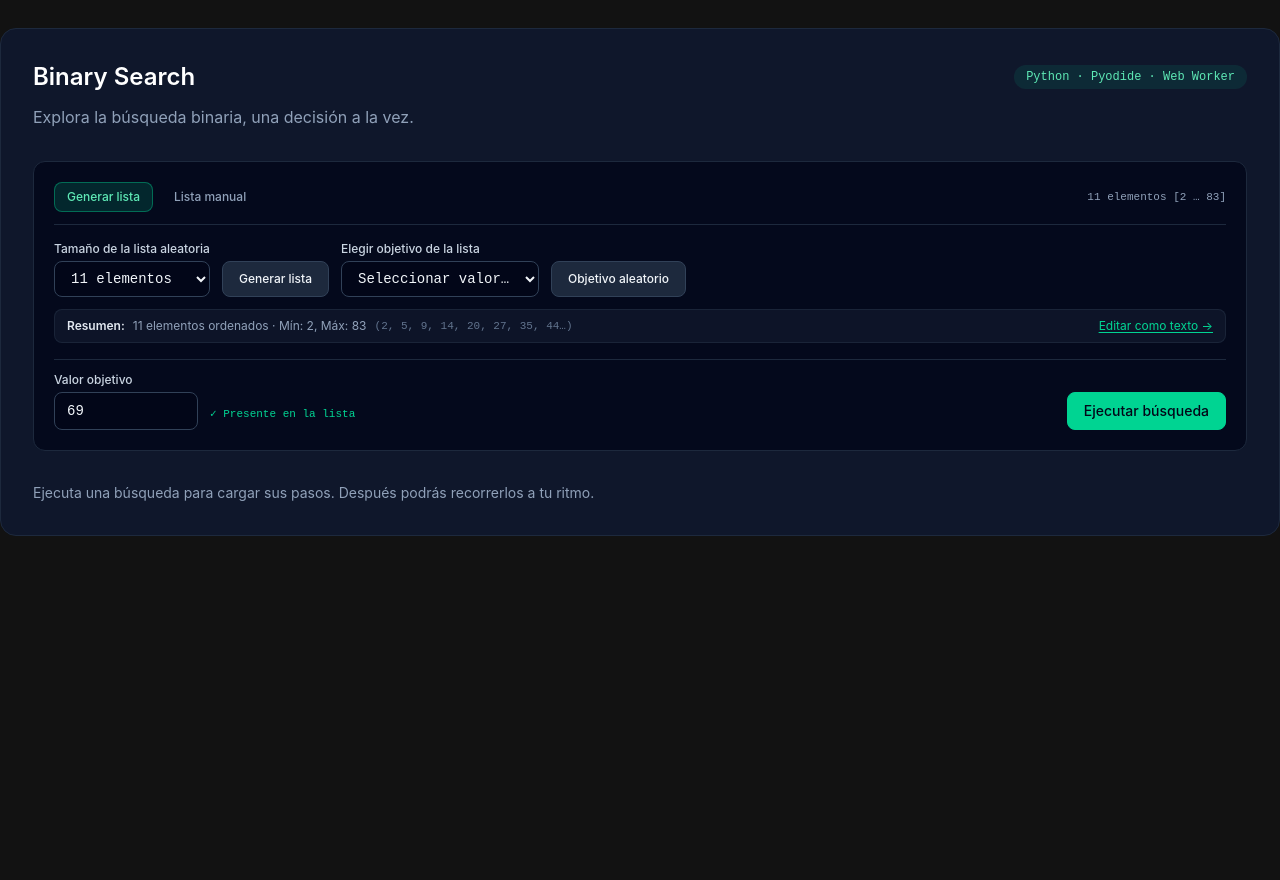
Test: Visualización por eventos › reproduce a la velocidad seleccionada, pausa y se detiene al finalizar
Click the button "Ejecutar búsqueda" at (1146, 411), box [1067, 392, 1226, 430]
(page scrolled)
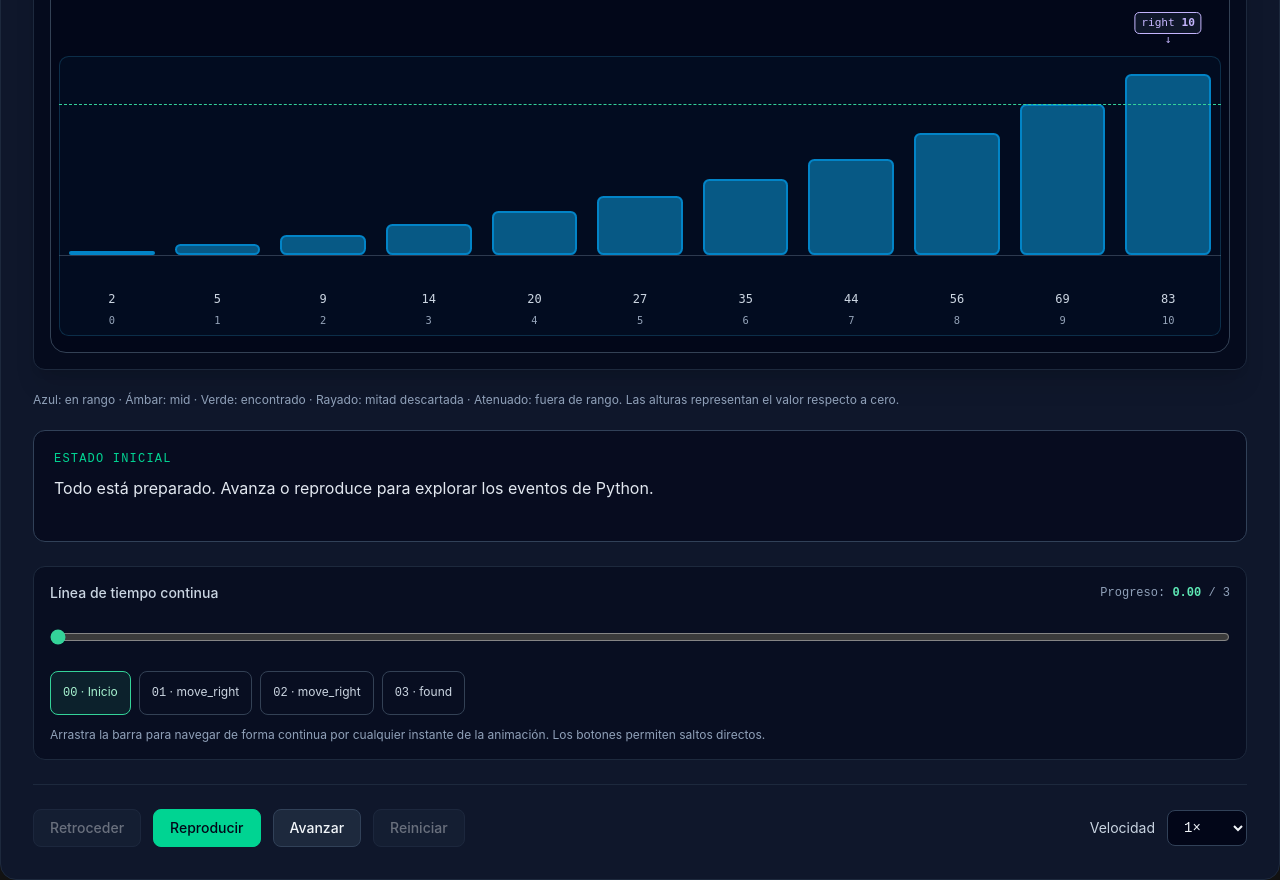
Select "2×" in the dropdown labelled "Velocidad" at (1207, 828), box [1167, 810, 1247, 846]
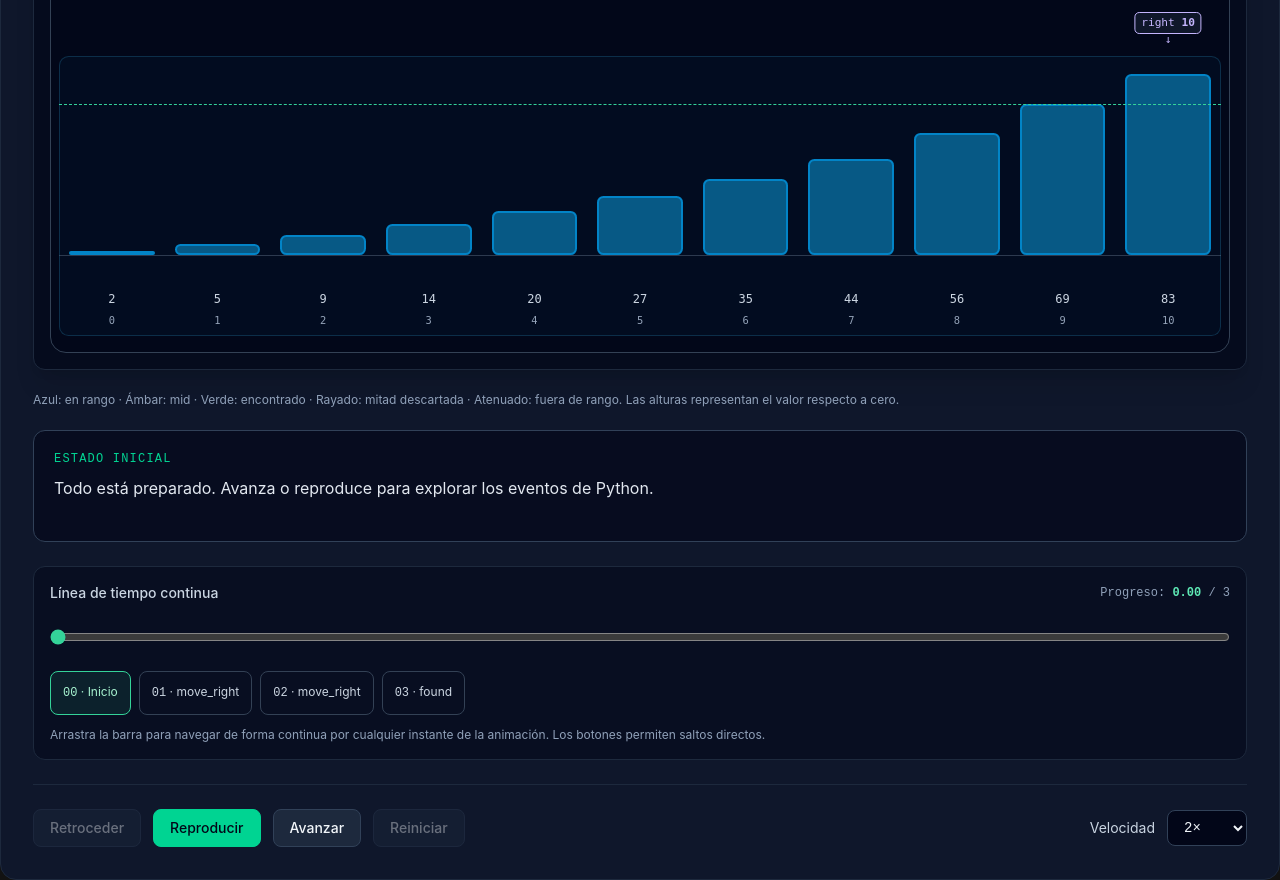
Click the button "Reproducir" at (207, 828), box [153, 809, 261, 847]
Wait 500 ms
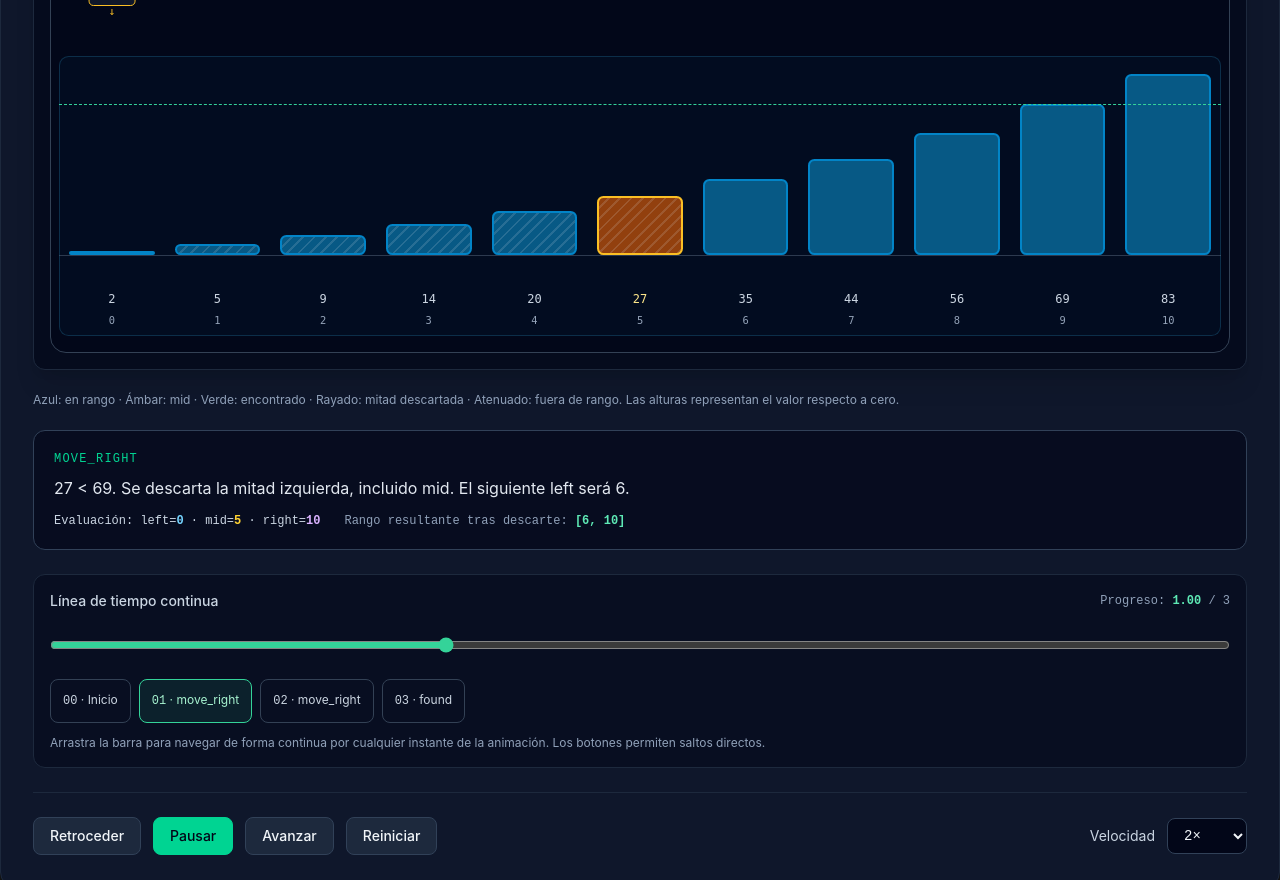
Click the button "Pausar" at (193, 836), box [153, 817, 233, 855]
Wait 2000 ms
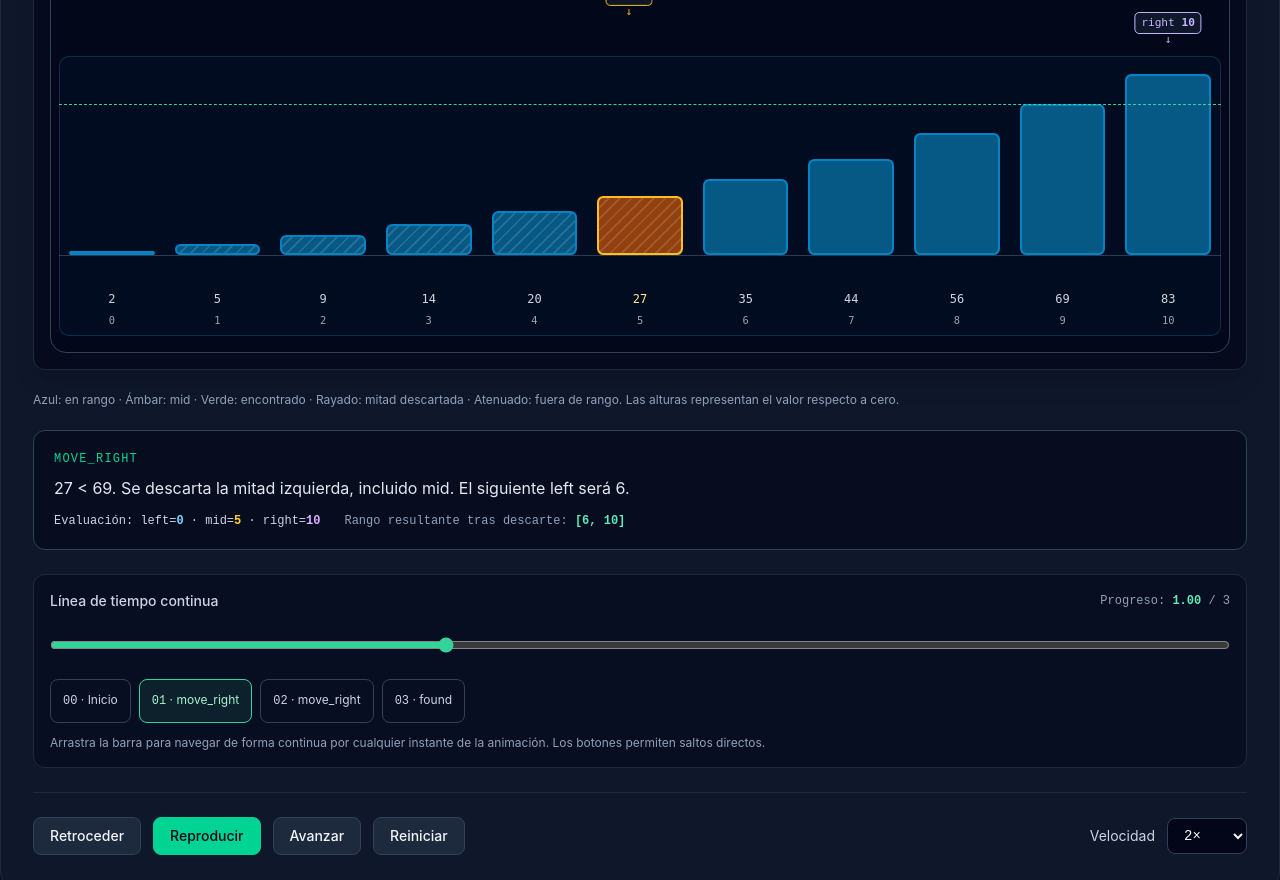
Click the button "Reproducir" at (207, 836), box [153, 817, 261, 855]
Wait 1500 ms
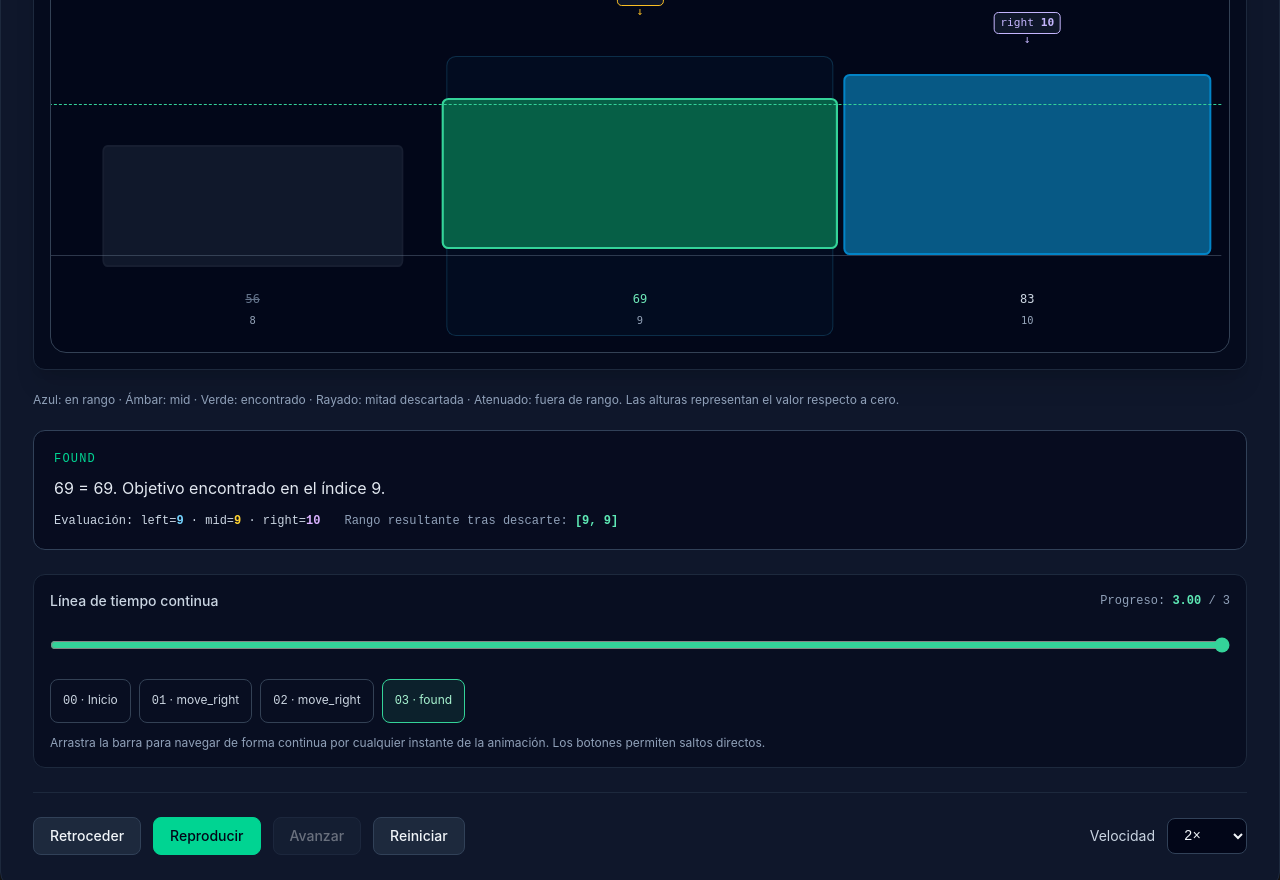
Check: the button "Reproducir" is shown
Click the button "Reproducir" at (207, 836), box [153, 817, 261, 855]
(page scrolled)
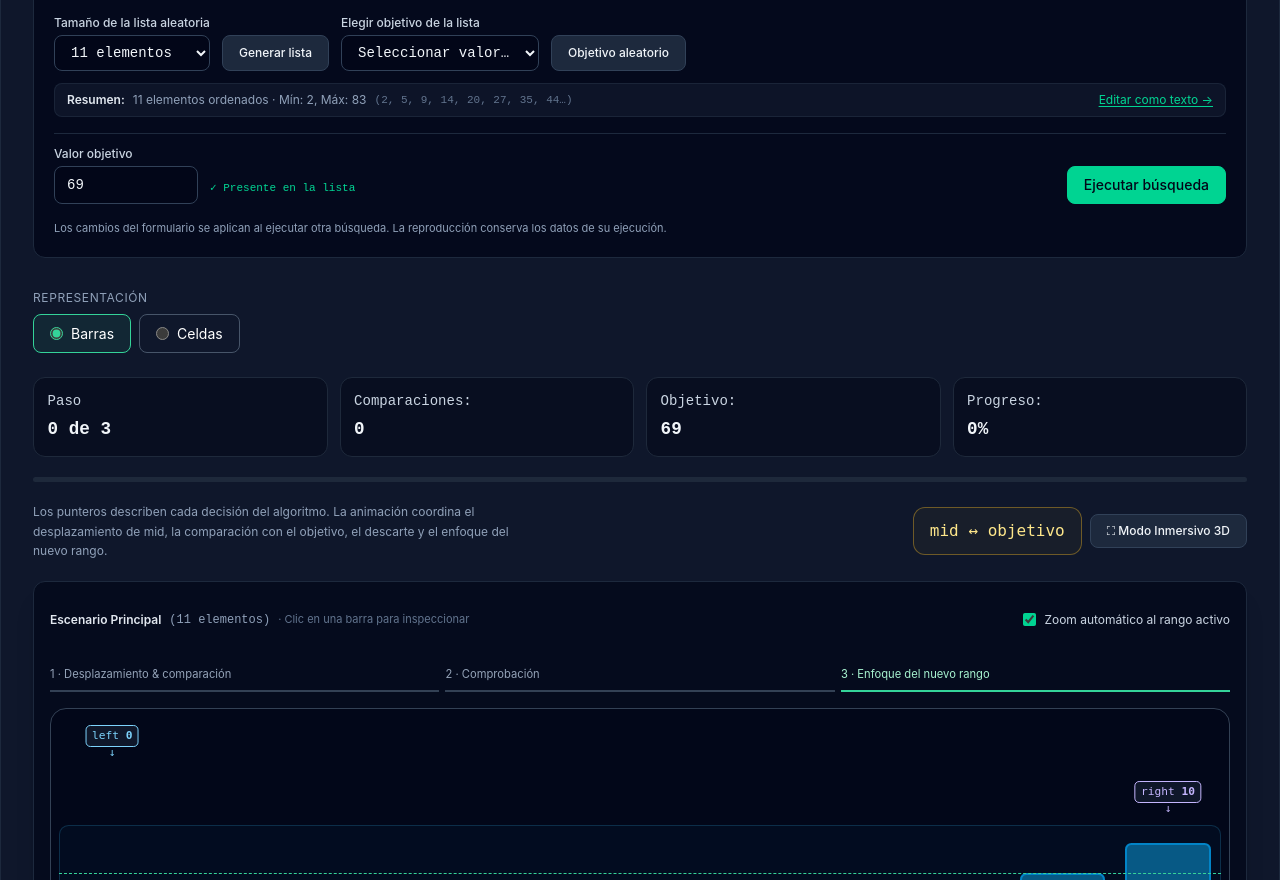
Check: the text "0 de 3" is shown, box [48, 420, 111, 440]
